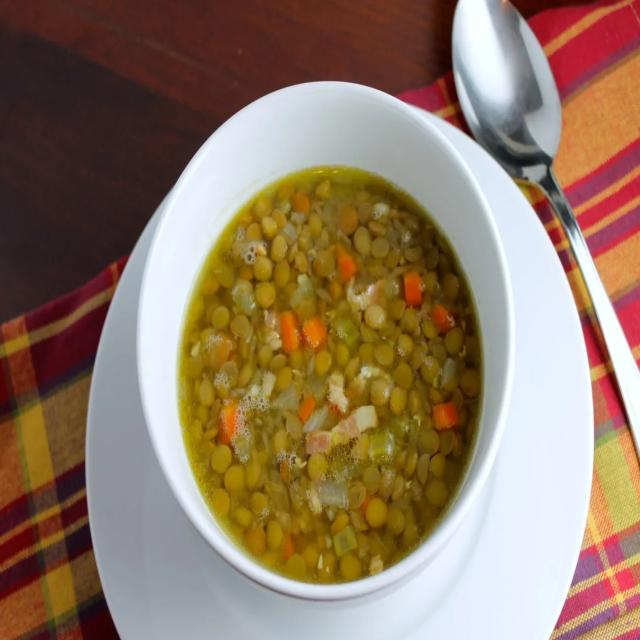arvejas: (169, 161, 490, 608)
